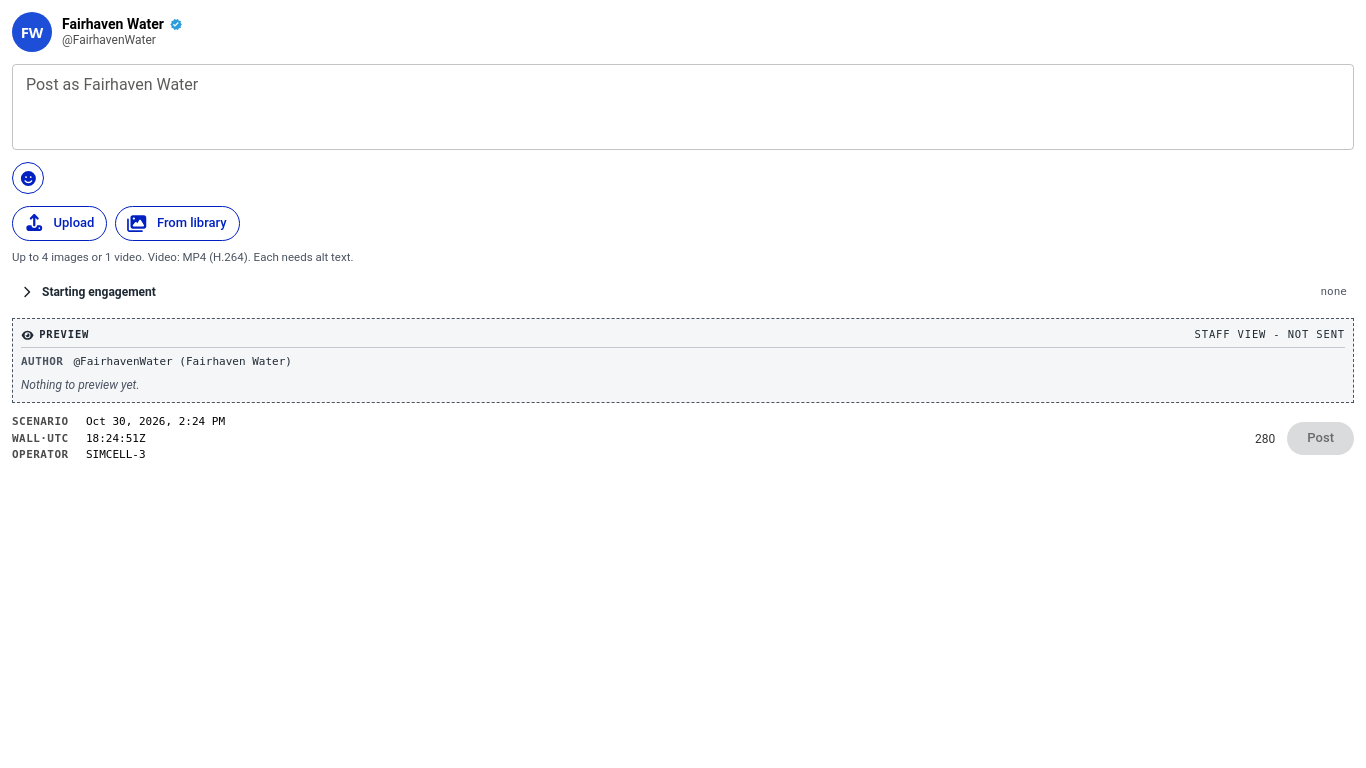
PersonaComposer (live) — a post that MAY ALREADY BE LIVE (status unknown) › treats a response-less failure (a dropped connection) the same way
The width and height of the screenshot is (1366, 768).
Type "Dropped." into the text box labelled "Post as Fairhaven Water" at (683, 107), box [26,72,1340,142]
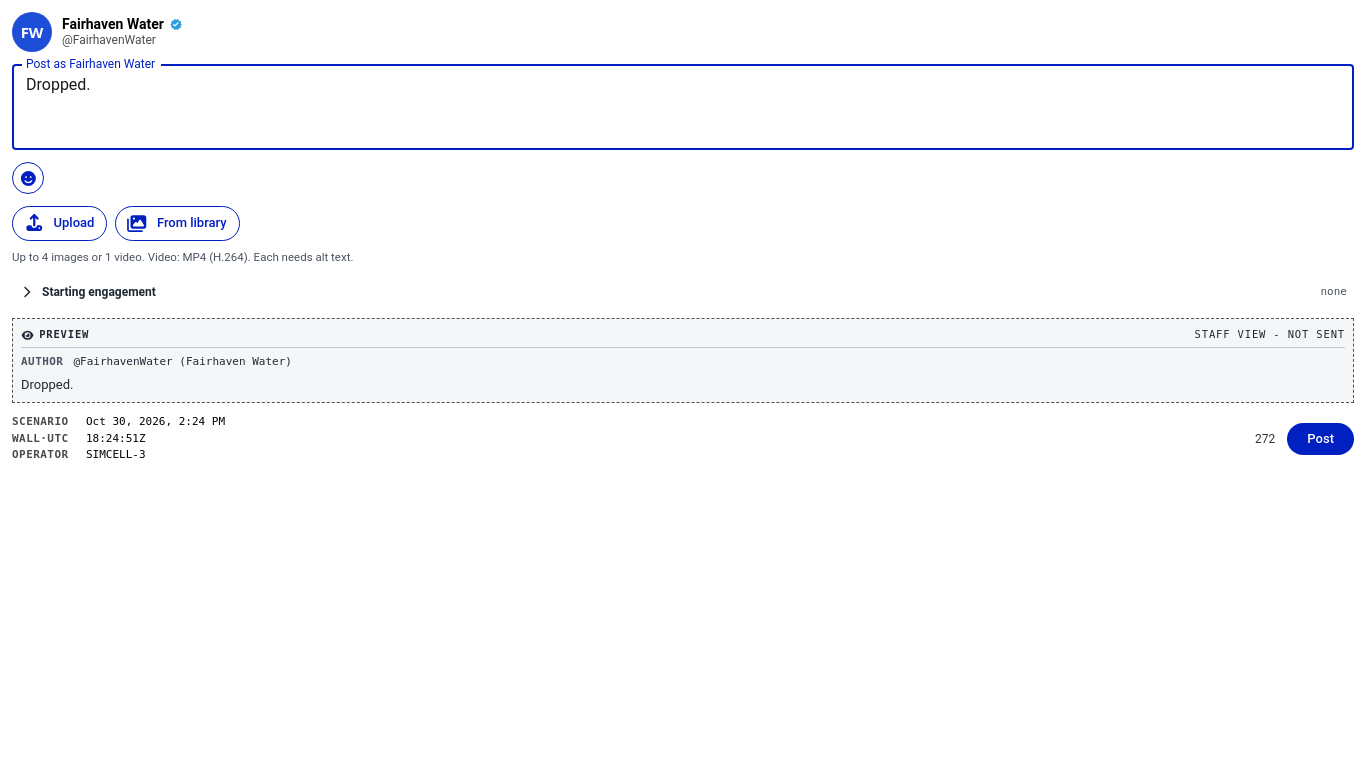
Click the button "Post" at (1321, 439), box [1287,422,1354,455]
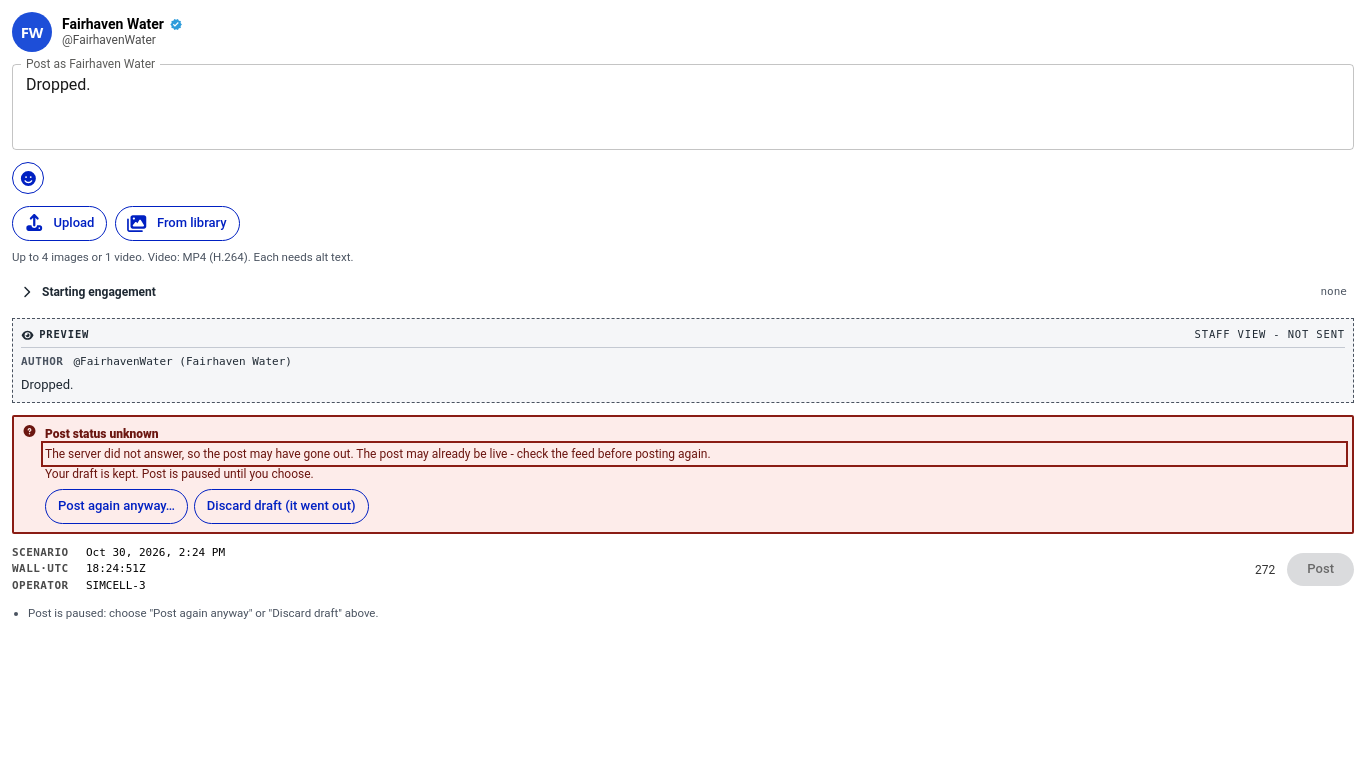
Result: the message with test id "publish-unconfirmed" shows "Post status unknown" at [45,427,159,441]
Result: the text with test id "publish-error-message" shows "may have gone out" at [45,447,711,461]
